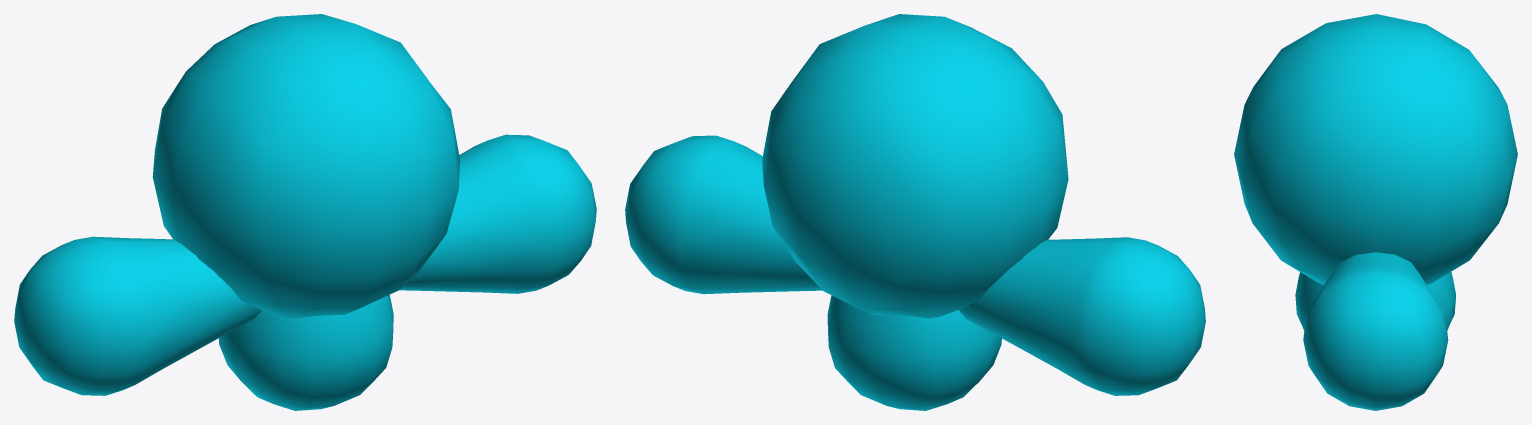
Rendered from R4U_Silhouette.fbx.
3 views of the same model, side by side, from view 1: azimuth 30°, elevation 25°; view 2: azimuth 150°, elevation 25°; view 3: azimuth 270°, elevation 25° (orthographic). The views are drawn at different scales.
Parts seen in each view (by area): view 1: Body, ArmR, ArmL; view 2: Body, ArmR, ArmL; view 3: Body, ArmL.
Boxes of the visible parts, box(x1,y1,x2,y2) form: Body: box(152, 14, 459, 410); ArmR: box(14, 236, 261, 395); ArmL: box(399, 134, 596, 293); Body: box(762, 14, 1068, 410); ArmR: box(959, 237, 1205, 395); ArmL: box(625, 135, 822, 294); Body: box(1234, 14, 1517, 330); ArmL: box(1303, 252, 1448, 410).
Size of the model in its own units: 21.01 by 13.35 by 10.06.
